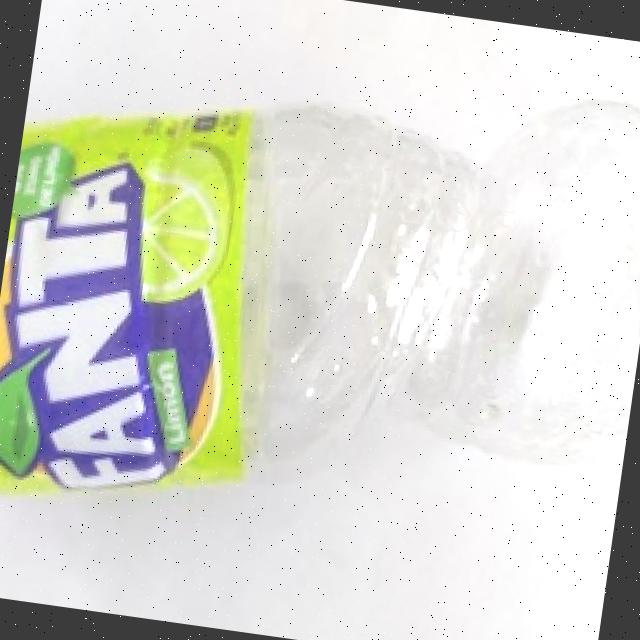bottle: (0, 0, 640, 583)
label: (0, 87, 288, 504)
